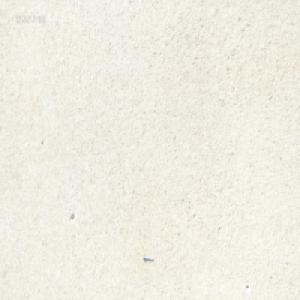Nail: (143, 254, 153, 262)
